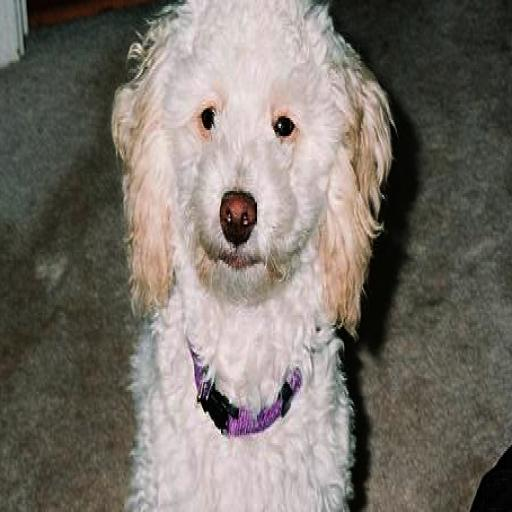dog_face: (112, 0, 365, 303)
